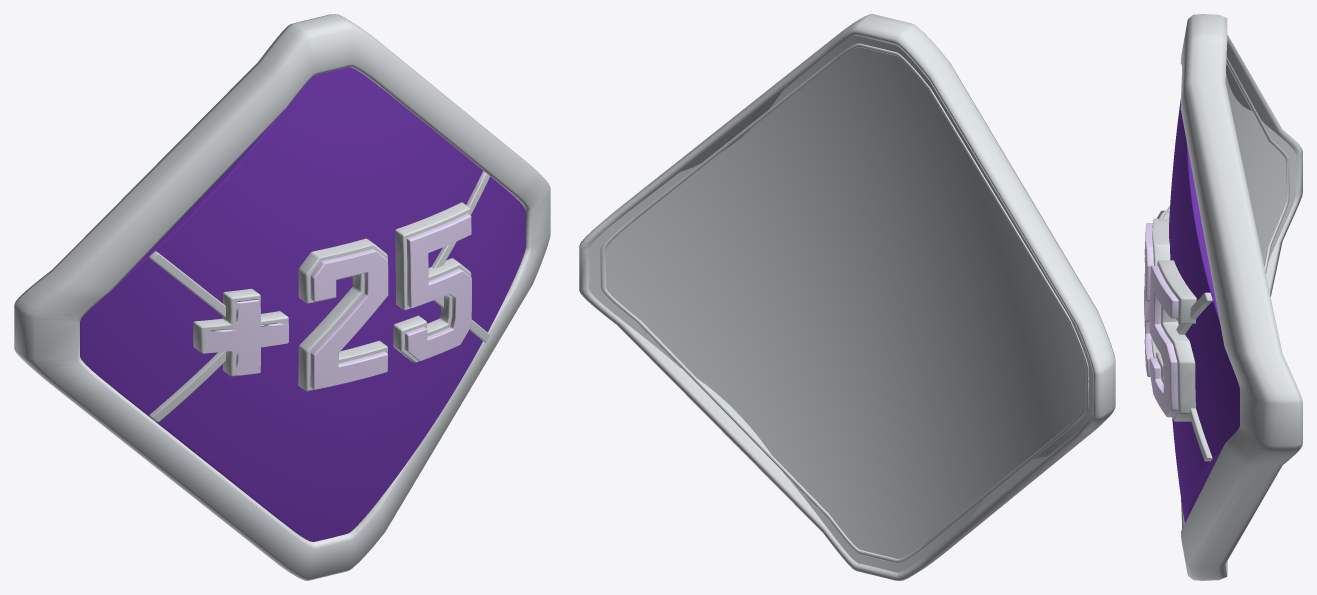
Rendered from plus-25-units.glb.
3 views of the same model, side by side, from view 1: azimuth 30°, elevation 25°; view 2: azimuth 150°, elevation 25°; view 3: azimuth 270°, elevation 25° (orthographic).
Parts seen in each view (by area): view 1: acrylic_diamond_face_conforming_003, metal_diamond_frame_003, ivory_number_plus25_1_0_conforming, ivory_number_plus25_2_0_conforming, metal_number_plus25_1_0_conforming, metal_number_plus25_2_0_conforming, ivory_number_plus25_0_0_conforming, metal_diamond_divider_left1_conforming_003, metal_number_plus25_0_0_conforming, metal_diamond_divider_1_conforming_003; view 2: satin_diamond_back_conforming_003, metal_diamond_frame_003, satin_diamond_rear_border_003; view 3: metal_diamond_frame_003, acrylic_diamond_face_conforming_003, satin_diamond_back_conforming_003, metal_number_plus25_2_0_conforming, ivory_number_plus25_2_0_conforming, ivory_number_plus25_1_0_conforming, metal_diamond_divider_1_conforming_003, satin_diamond_rear_border_003, metal_number_plus25_1_0_conforming.
Boxes of the visible parts, x1,y1,x2,y2 form: acrylic_diamond_face_conforming_003: (80,67,525,541); metal_diamond_frame_003: (14,14,550,580); ivory_number_plus25_1_0_conforming: (310,249,388,389); ivory_number_plus25_2_0_conforming: (404,213,471,361); metal_number_plus25_1_0_conforming: (298,238,387,391); metal_number_plus25_2_0_conforming: (393,202,471,362); ivory_number_plus25_0_0_conforming: (206,299,288,375); metal_diamond_divider_left1_conforming_003: (149,251,225,422); metal_number_plus25_0_0_conforming: (193,288,288,376); metal_diamond_divider_1_conforming_003: (431,171,489,342); satin_diamond_back_conforming_003: (589,36,1092,572); metal_diamond_frame_003: (579,14,1115,580); satin_diamond_rear_border_003: (600,43,1088,563); metal_diamond_frame_003: (1180,14,1302,580); acrylic_diamond_face_conforming_003: (1169,99,1239,523); satin_diamond_back_conforming_003: (1225,73,1295,265); metal_number_plus25_2_0_conforming: (1156,260,1196,421); ivory_number_plus25_2_0_conforming: (1149,265,1178,417); ivory_number_plus25_1_0_conforming: (1144,223,1153,376); metal_diamond_divider_1_conforming_003: (1176,292,1212,461); satin_diamond_rear_border_003: (1226,57,1289,273); metal_number_plus25_1_0_conforming: (1151,218,1170,357).
Size of the model in its own units: 2 by 2 by 0.527.
